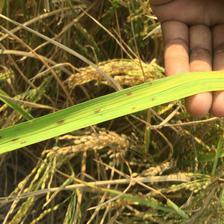0 BrownSpot: (9, 136, 27, 145), (91, 105, 107, 114), (55, 117, 65, 124), (123, 91, 134, 96)
